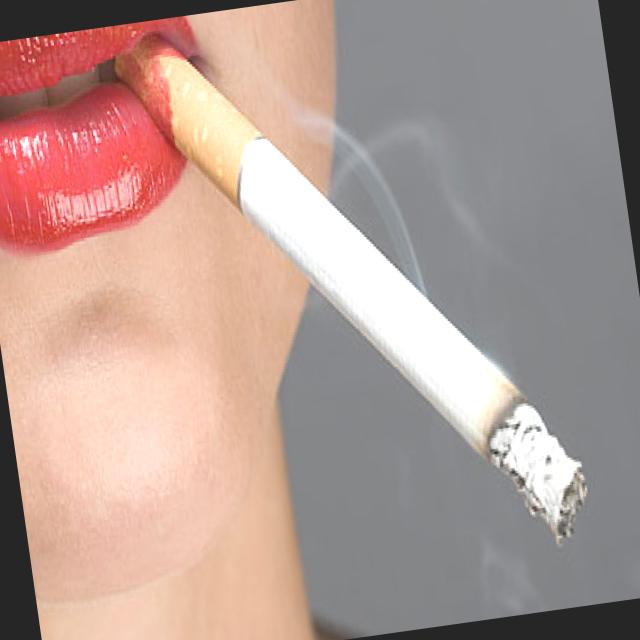cigarette: (205, 53, 590, 586)
